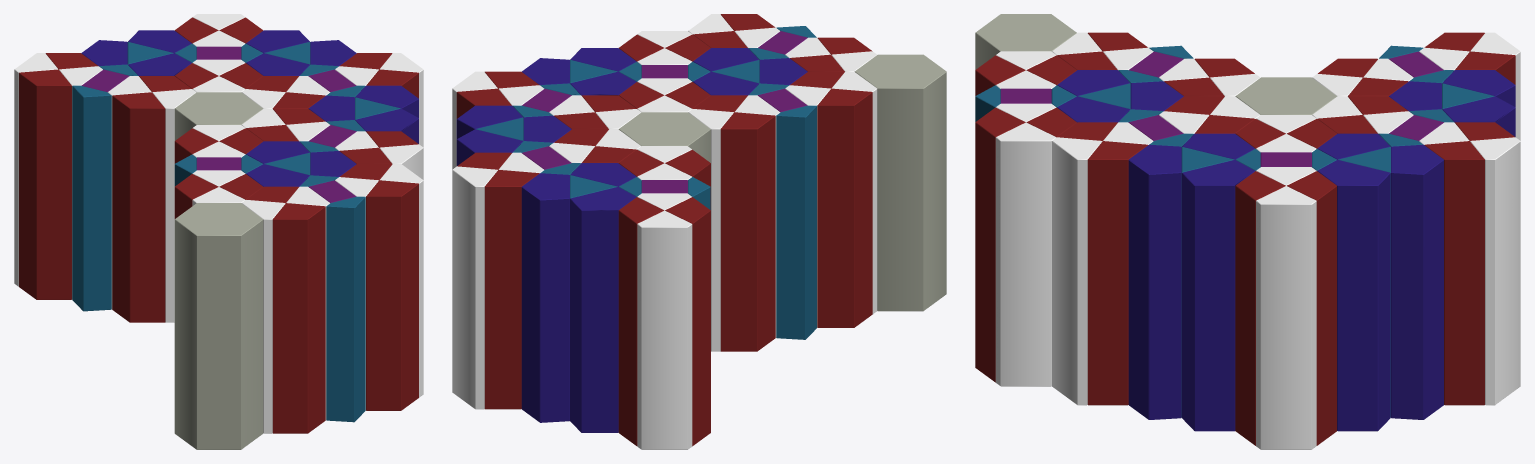
File: Paves_A01_2.FBX
The picture shows the model from 3 angles, left to right: view 1: azimuth 30°, elevation 25°; view 2: azimuth 150°, elevation 25°; view 3: azimuth 270°, elevation 25°; orthographic projection. The views are drawn at different scales.
Visible parts, largest first — view 1: Line049, Object091, Object020, Object095, Object024, Line005, Line054, Object022, Object094, Line013, Object025, Object097 (+63 smaller); view 2: Line049, Object035, Object039, Object025, Line036, Line035, Line010, Object016, Object017, Object023, Object024, Object038 (+62 smaller); view 3: Object009, Object097, Line028, Line032, Line030, Line026, Object048, Object015, Object049, Object017, Object007, Object095 (+61 smaller).
Part boxes in pixels (x1,y1,x2,y2): Line049: (174,203,263,449); Object091: (272,203,325,433); Object020: (112,92,165,322); Object095: (366,180,418,410); Object024: (19,69,71,299); Line005: (72,85,111,311); Line054: (326,196,365,422); Object022: (152,89,196,322); Object094: (241,200,285,433); Line013: (174,92,263,140); Object025: (14,53,57,286); Object097: (379,164,423,397); Line049: (854,54,946,311); Object035: (720,112,775,351); Object039: (817,88,872,327); Object025: (637,210,692,449); Line036: (521,173,569,422); Line035: (570,187,636,432); Line010: (776,105,816,339); Object016: (484,170,539,409); Object017: (452,166,497,409); Object023: (618,197,663,445); Object024: (665,197,710,446); Object038: (688,109,733,351); Object009: (1256,186,1316,449); Object097: (995,122,1056,386); Line028: (1317,159,1390,431); Line032: (1182,160,1254,431); Line030: (1128,144,1181,419); Line026: (1391,144,1443,419); Object048: (1087,141,1147,405); Object015: (1424,141,1484,405); Object049: (1052,137,1102,405); Object017: (1470,137,1520,405); Object007: (1235,171,1285,445); Object095: (975,107,1025,382).
Size of the model in its own units: 168 by 101 by 203.
